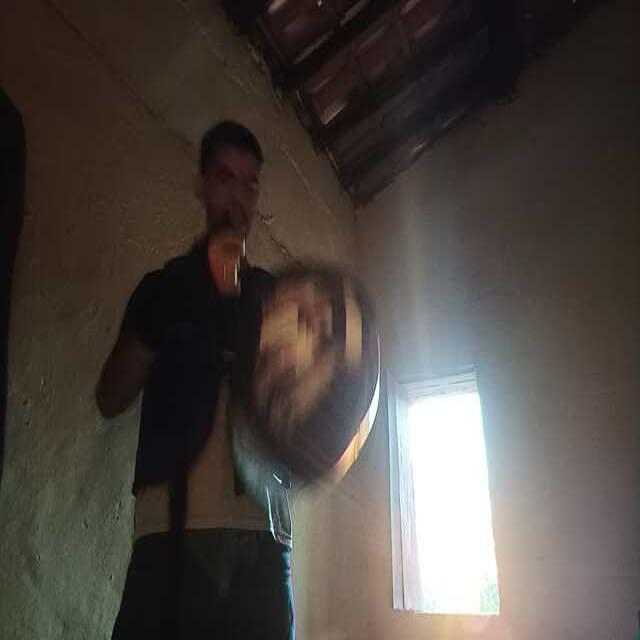capacete: (243, 256, 385, 482)
colete: (136, 250, 276, 490)
pessoa: (117, 121, 324, 640)
